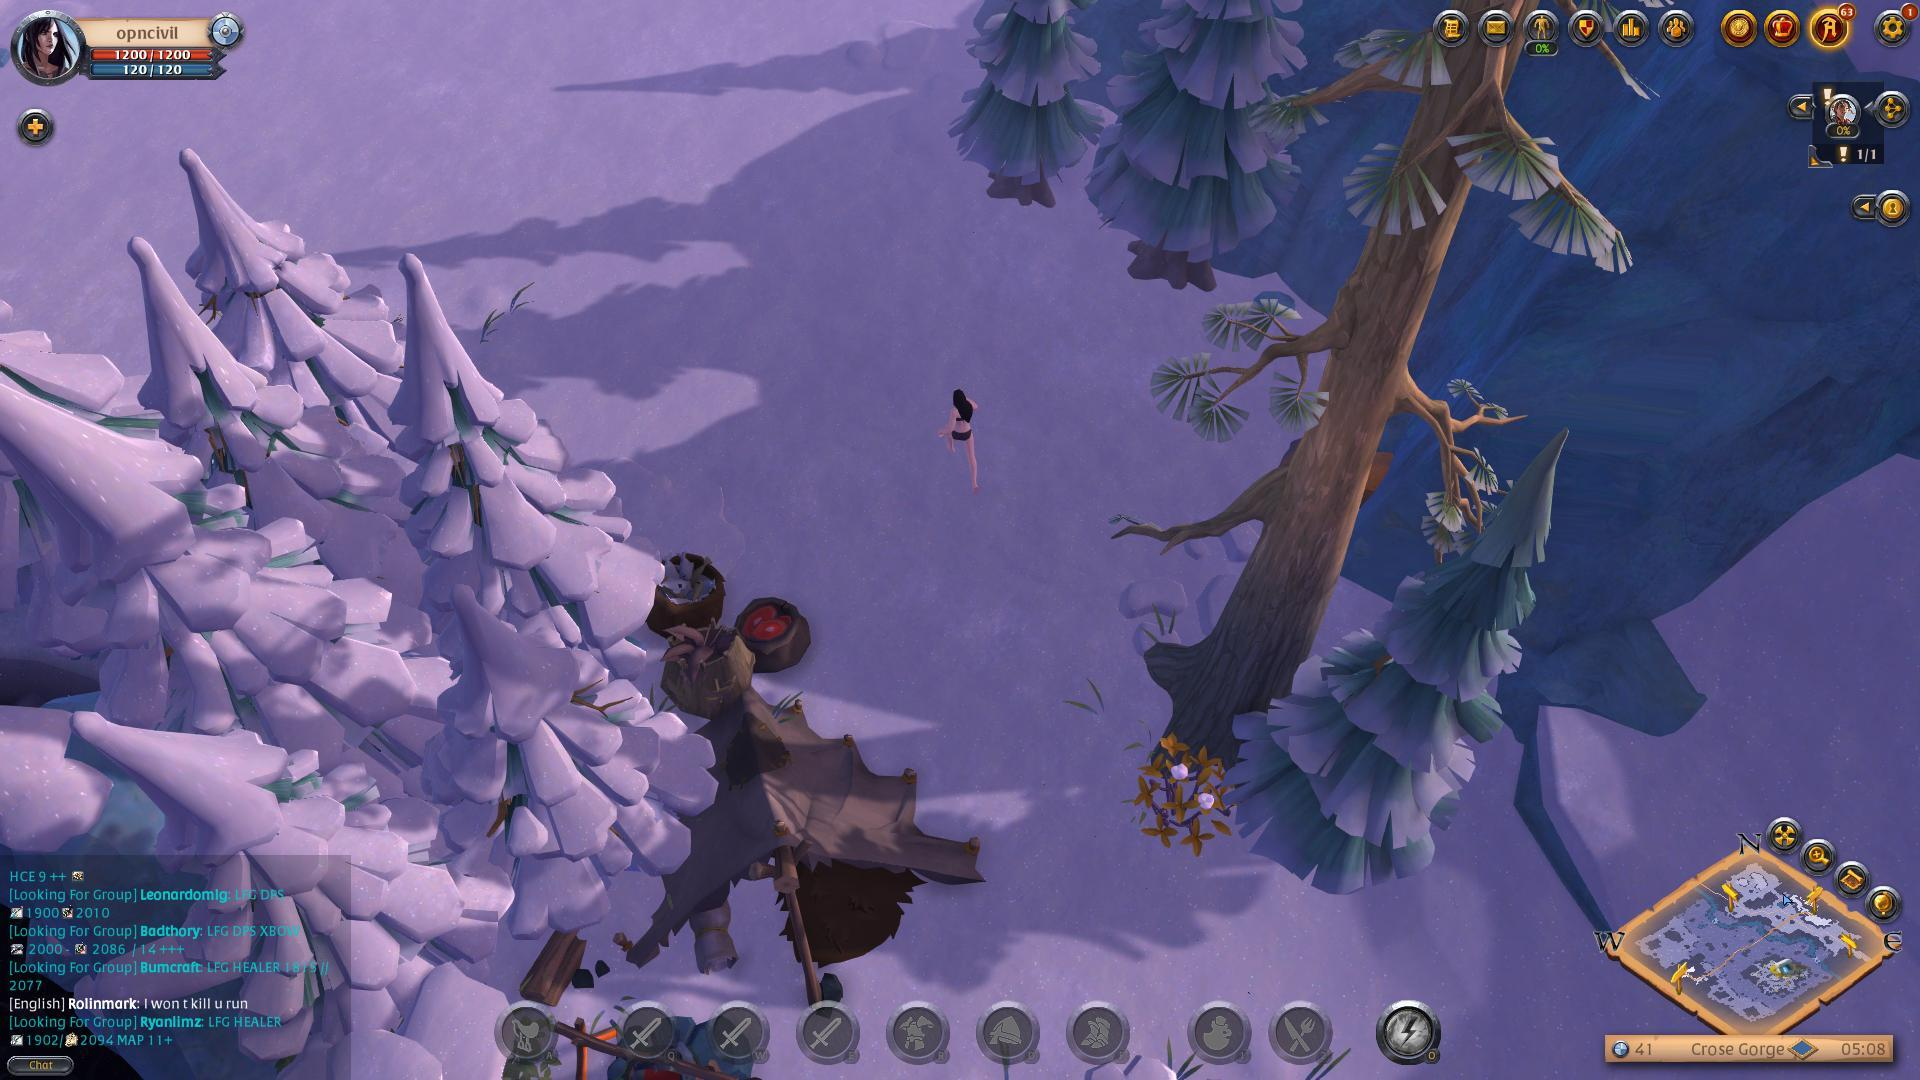cotton: (1143, 758, 1271, 862)
